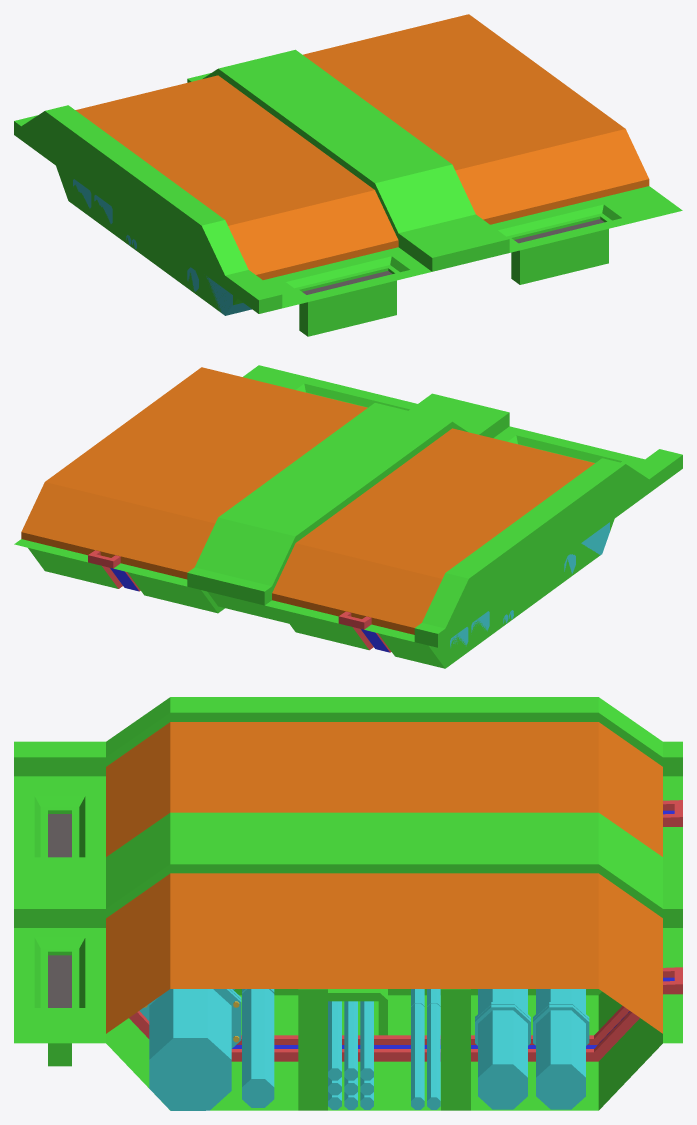
The model's file is Interior_Deco_03_D.fbx.
3 renders of one model, top to bottom at view 1: azimuth 30°, elevation 25°; view 2: azimuth 150°, elevation 25°; view 3: azimuth 270°, elevation 25°, orthographic. The views are drawn at different scales.
Visible parts, largest first — view 1: Interior_Deco_03_D; view 2: Interior_Deco_03_D; view 3: Interior_Deco_03_D.
Part boxes in pixels (x1,y1,x2,y2): Interior_Deco_03_D: (14,14,682,336); Interior_Deco_03_D: (14,365,682,668); Interior_Deco_03_D: (14,697,682,1110).
Bounding box in the file's own units: 457 × 98.92 × 457.
